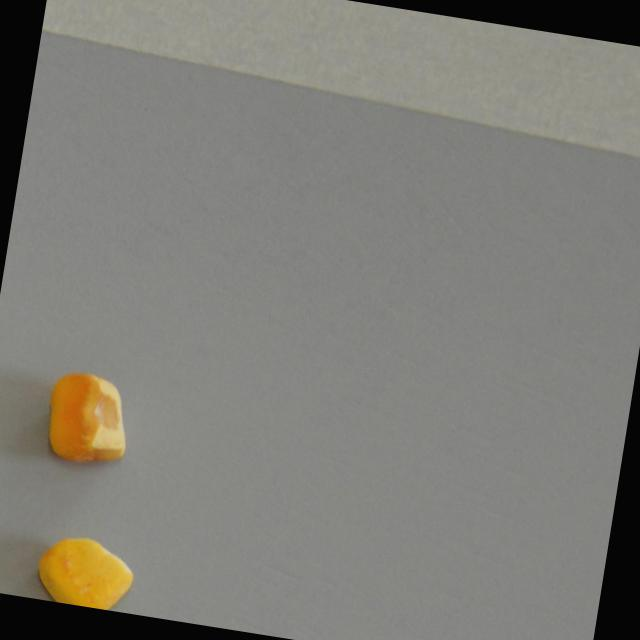dañado: (27, 351, 155, 476), (22, 505, 148, 614)
